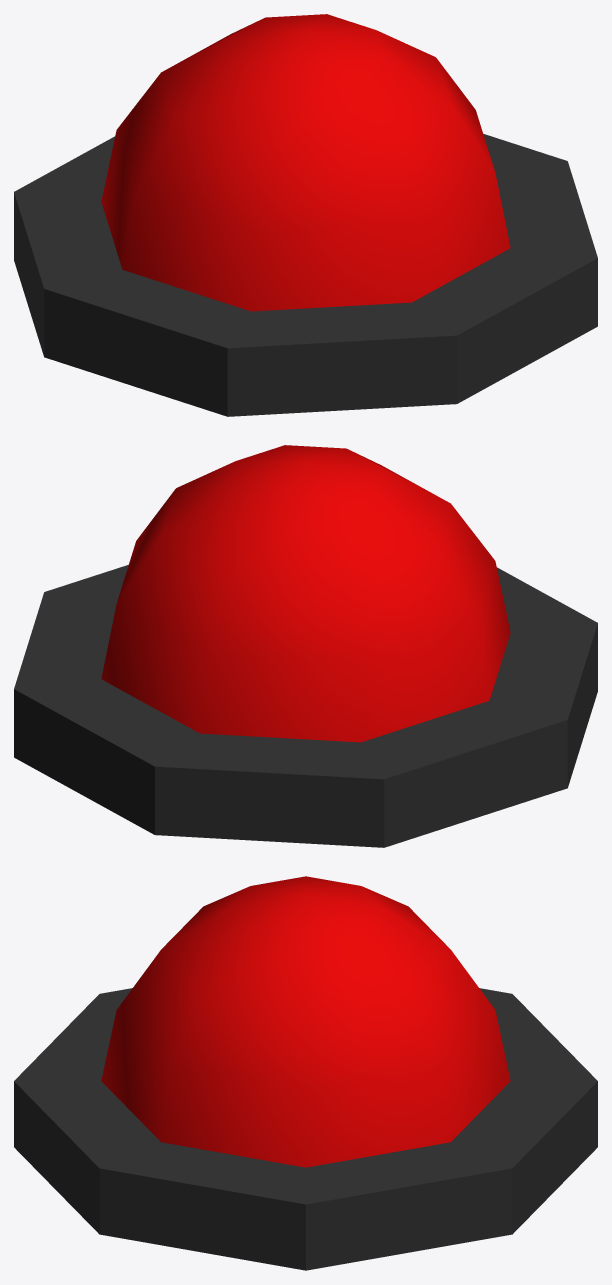
File: light_on.fbx
The picture shows the model from 3 angles, top to bottom: view 1: azimuth 30°, elevation 25°; view 2: azimuth 150°, elevation 25°; view 3: azimuth 270°, elevation 25°; orthographic projection. The views are drawn at different scales.
Parts seen in each view (by area): view 1: pSphere2, pCylinder1; view 2: pSphere2, pCylinder1; view 3: pSphere2, pCylinder1.
Part boxes in pixels (left/top/right/bottom): pSphere2: left=101, top=14, right=510, bottom=311; pCylinder1: left=14, top=134, right=597, bottom=416; pSphere2: left=101, top=445, right=510, bottom=742; pCylinder1: left=14, top=565, right=597, bottom=847; pSphere2: left=101, top=876, right=510, bottom=1167; pCylinder1: left=14, top=988, right=597, bottom=1270.
Bounding box in the file's own units: 2 × 0.9521 × 2.
